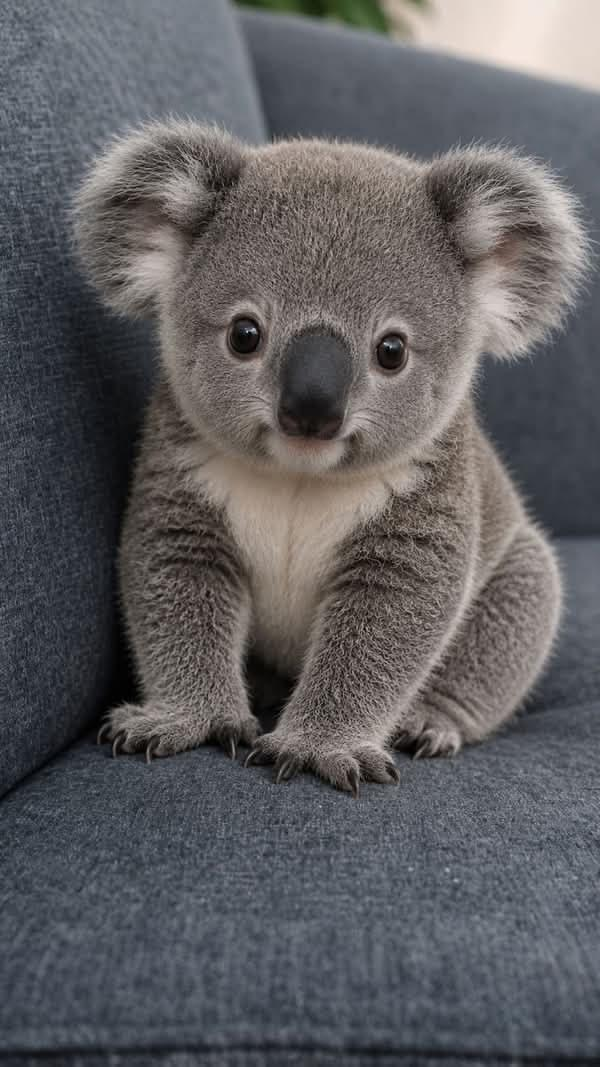koala: (77, 121, 585, 791)
